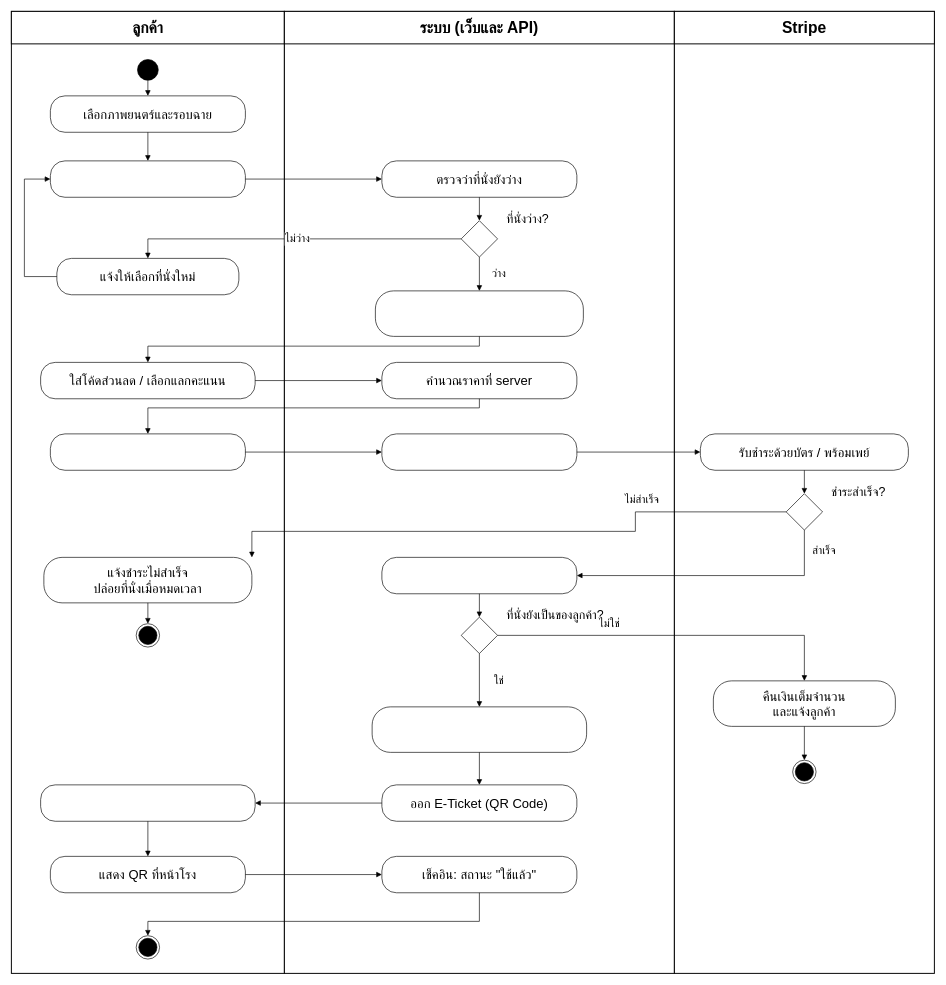
This 946x985 diagram has some shape labels left out. The centre of each missing label's shape, as x and y in pixels:
กดชำระเงิน: point (147, 451)
ตรวจผลการชำระกับ Stripe: point (479, 575)
บันทึกสถานะ "ชำระแล้ว" ที่นั่ง booked + เพิ่มคะแนน: point (479, 729)
รับ E-Ticket / ดูในตั๋วของฉัน: point (147, 802)
ล็อกที่นั่ง 12 นาที สร้างการจอง (pending): point (479, 313)
สร้างหน้าชำระเงิน Stripe: point (479, 451)
เลือกที่นั่งจากผัง: point (147, 178)
